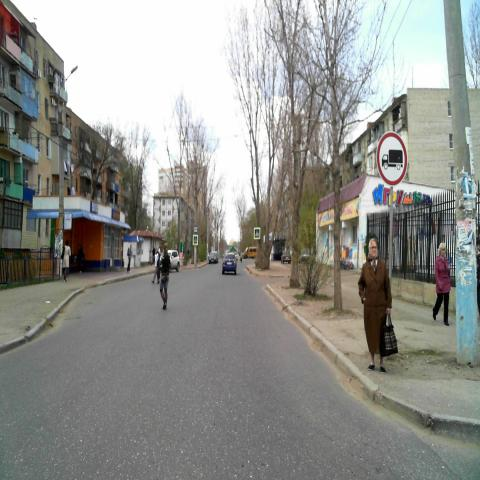3_4_1: (375, 131, 408, 185)
